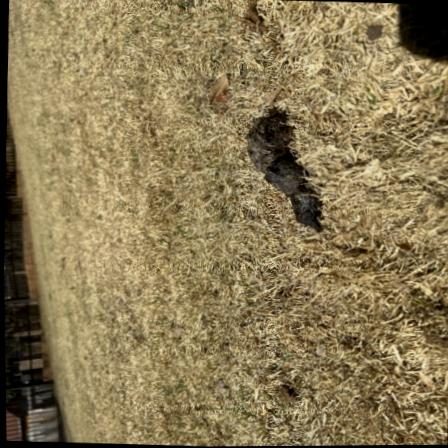dog-poop: (230, 108, 330, 235)
